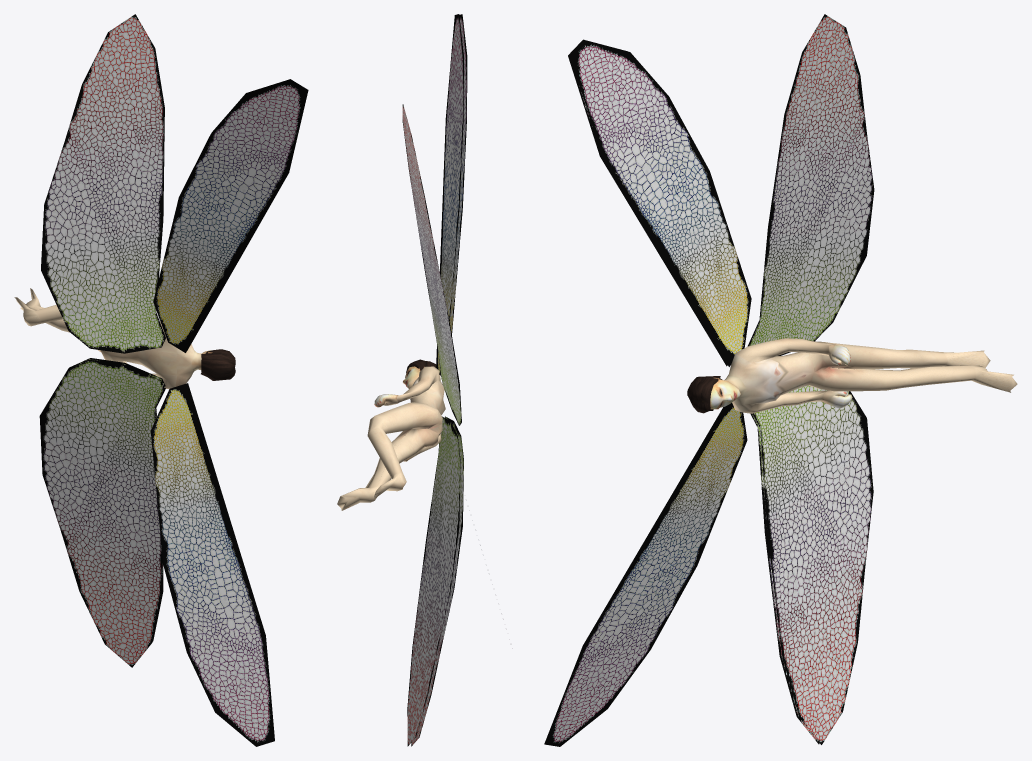
The model's file is angel_000002.obj.
The picture shows the model from 3 angles, left to right: view 1: azimuth 30°, elevation 25°; view 2: azimuth 150°, elevation 25°; view 3: azimuth 270°, elevation 25°; orthographic projection. The views are drawn at different scales.
Parts seen in each view (by area): view 1: Plane.002, Plane.001, Plane, Plane.003, body.001_omino.012, hair.003_omino.013; view 2: Plane.001, body.001_omino.012, Plane.003, Plane.002; view 3: Plane.001, Plane.002, Plane.003, Plane, body.001_omino.012, hair.003_omino.013.
Part boxes in pixels (x1,y1,x2,y2): Plane.002: [41, 14, 165, 353]; Plane.001: [39, 358, 165, 667]; Plane: [150, 383, 274, 746]; Plane.003: [153, 79, 308, 352]; body.001_omino.012: [14, 288, 212, 389]; hair.003_omino.013: [201, 349, 235, 380]; Plane.001: [407, 416, 463, 746]; body.001_omino.012: [337, 366, 445, 510]; Plane.003: [436, 14, 467, 375]; Plane.002: [402, 104, 461, 425]; Plane.001: [750, 385, 873, 744]; Plane.002: [747, 14, 874, 355]; Plane.003: [568, 39, 751, 366]; Plane: [544, 402, 747, 746]; body.001_omino.012: [702, 338, 1017, 413]; hair.003_omino.013: [687, 376, 722, 413].
Bounding box in the file's own units: 1.5 × 6.76 × 3.95.
